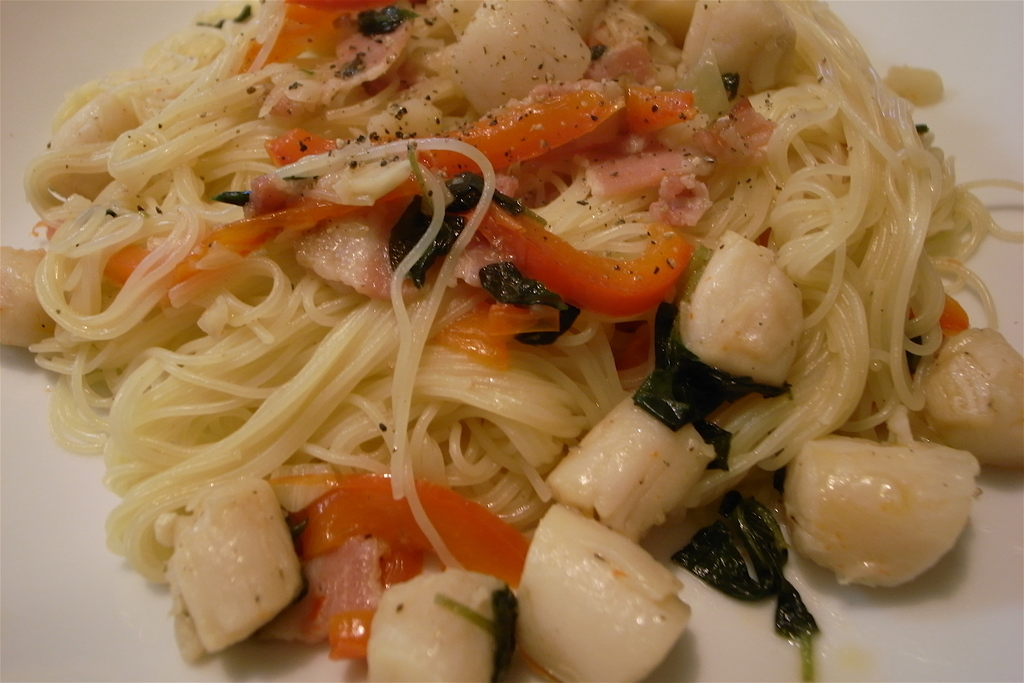pasta: (32, 0, 1023, 682)
